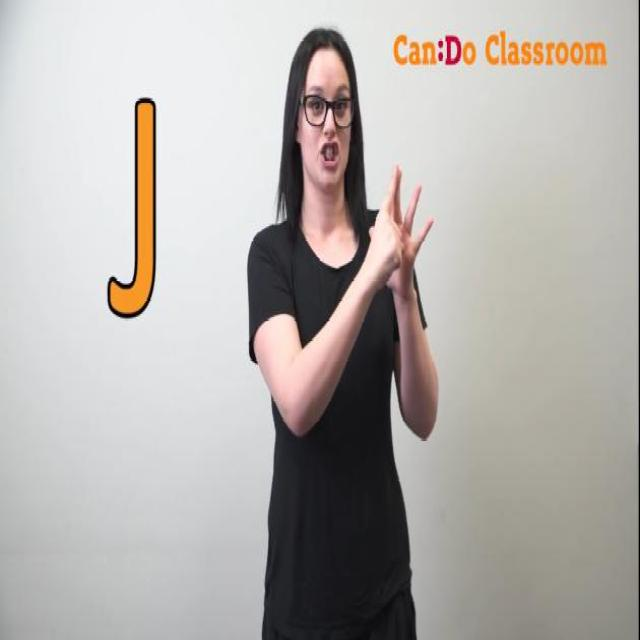I: (360, 161, 448, 321)
